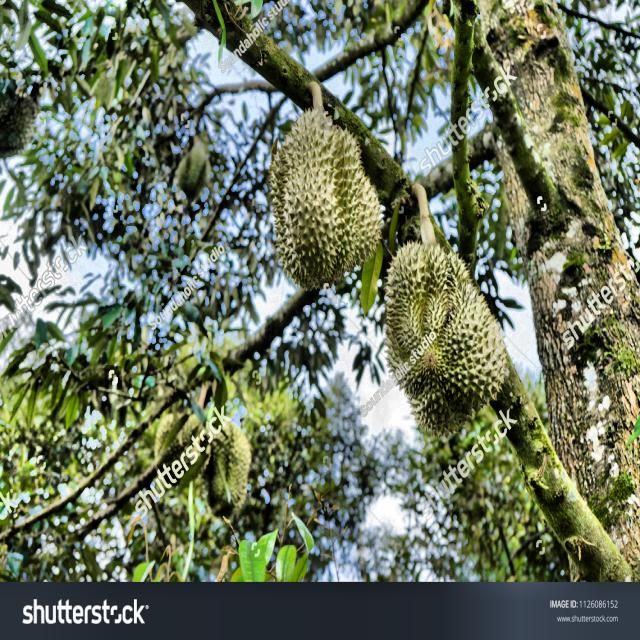arvore: (439, 0, 640, 579)
